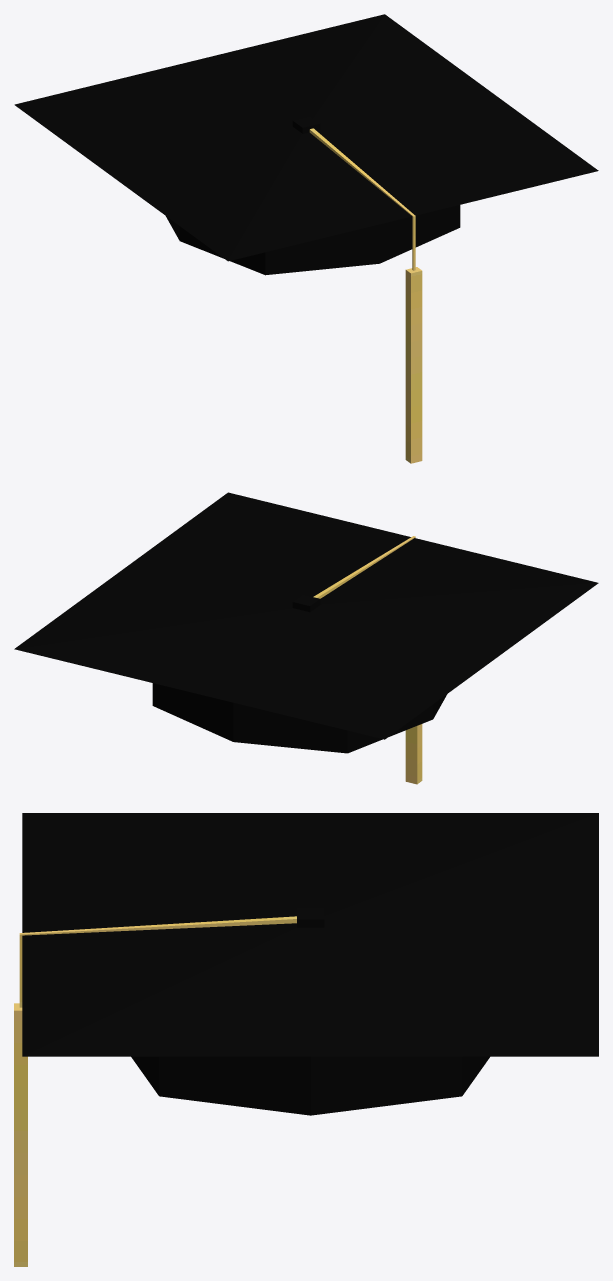
The model's file is graduationcap.obj.
3 views of the same model, one above another, from view 1: azimuth 30°, elevation 25°; view 2: azimuth 150°, elevation 25°; view 3: azimuth 270°, elevation 25° (orthographic). The views are drawn at different scales.
Visible parts, largest first — view 1: Cube.025_Cube.043; view 2: Cube.025_Cube.043; view 3: Cube.025_Cube.043.
Part boxes in pixels (<box>): Cube.025_Cube.043: <box>14,14,598,463</box>; Cube.025_Cube.043: <box>14,492,598,784</box>; Cube.025_Cube.043: <box>14,813,598,1266</box>.
Bounding box in the file's own units: 1.49 × 0.9998 × 1.52.
Materials: 1 (1 with a texture image).
